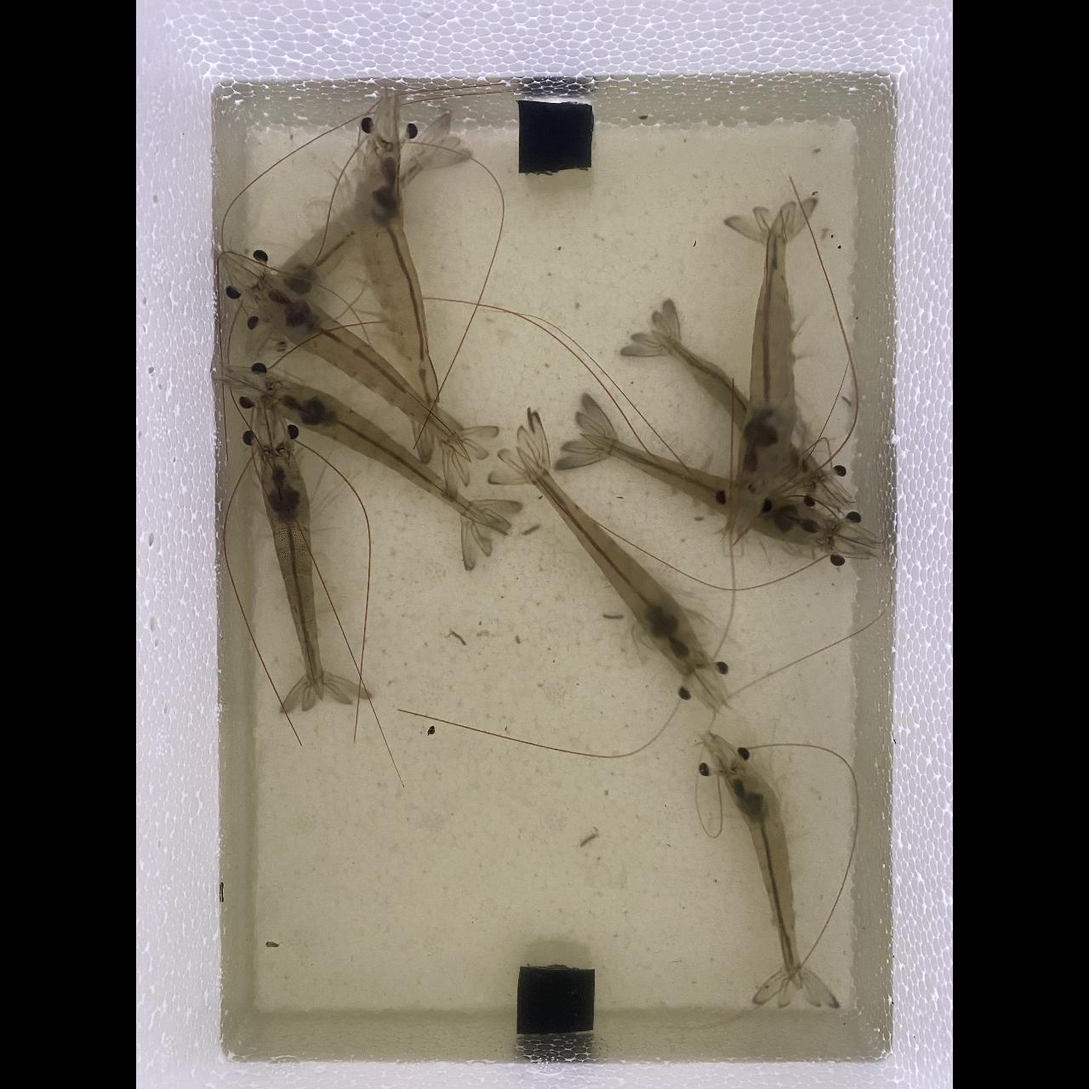box: (519, 100, 592, 174), (519, 966, 594, 1035)
top_shrimp: (529, 463, 703, 670), (257, 284, 468, 454), (260, 138, 444, 320), (271, 381, 499, 526), (654, 330, 822, 487), (590, 436, 829, 544), (359, 140, 436, 436), (725, 764, 800, 987), (739, 203, 796, 491), (262, 449, 322, 696)
